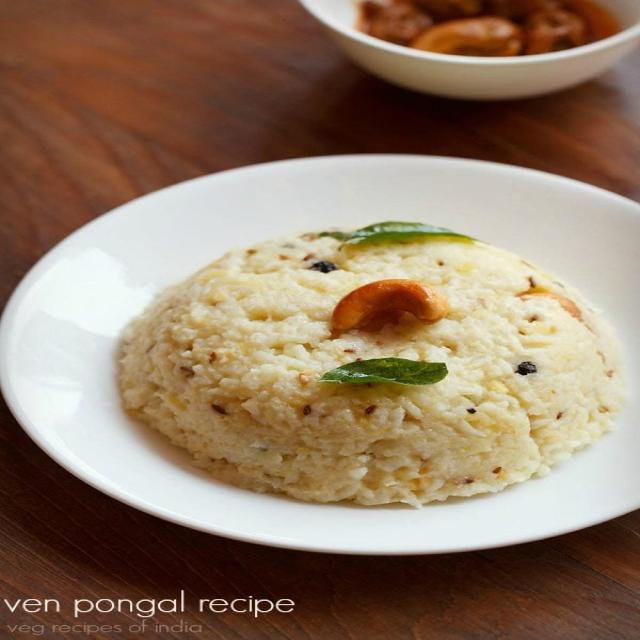khara pongal: (96, 207, 640, 518)
